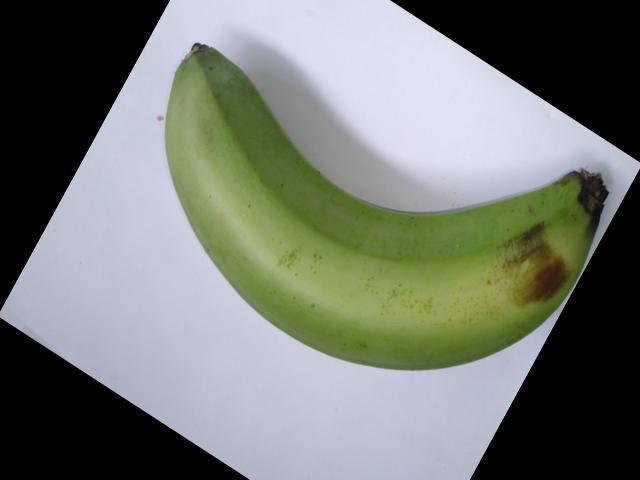freshunripe: (152, 26, 639, 394)
